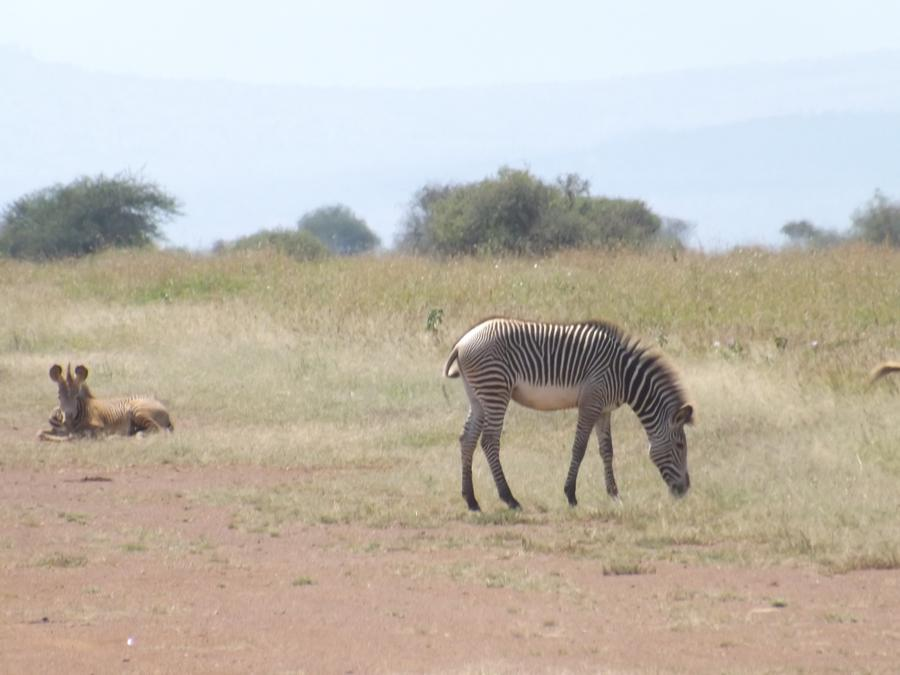zebra_grevys: (440, 306, 620, 415)
